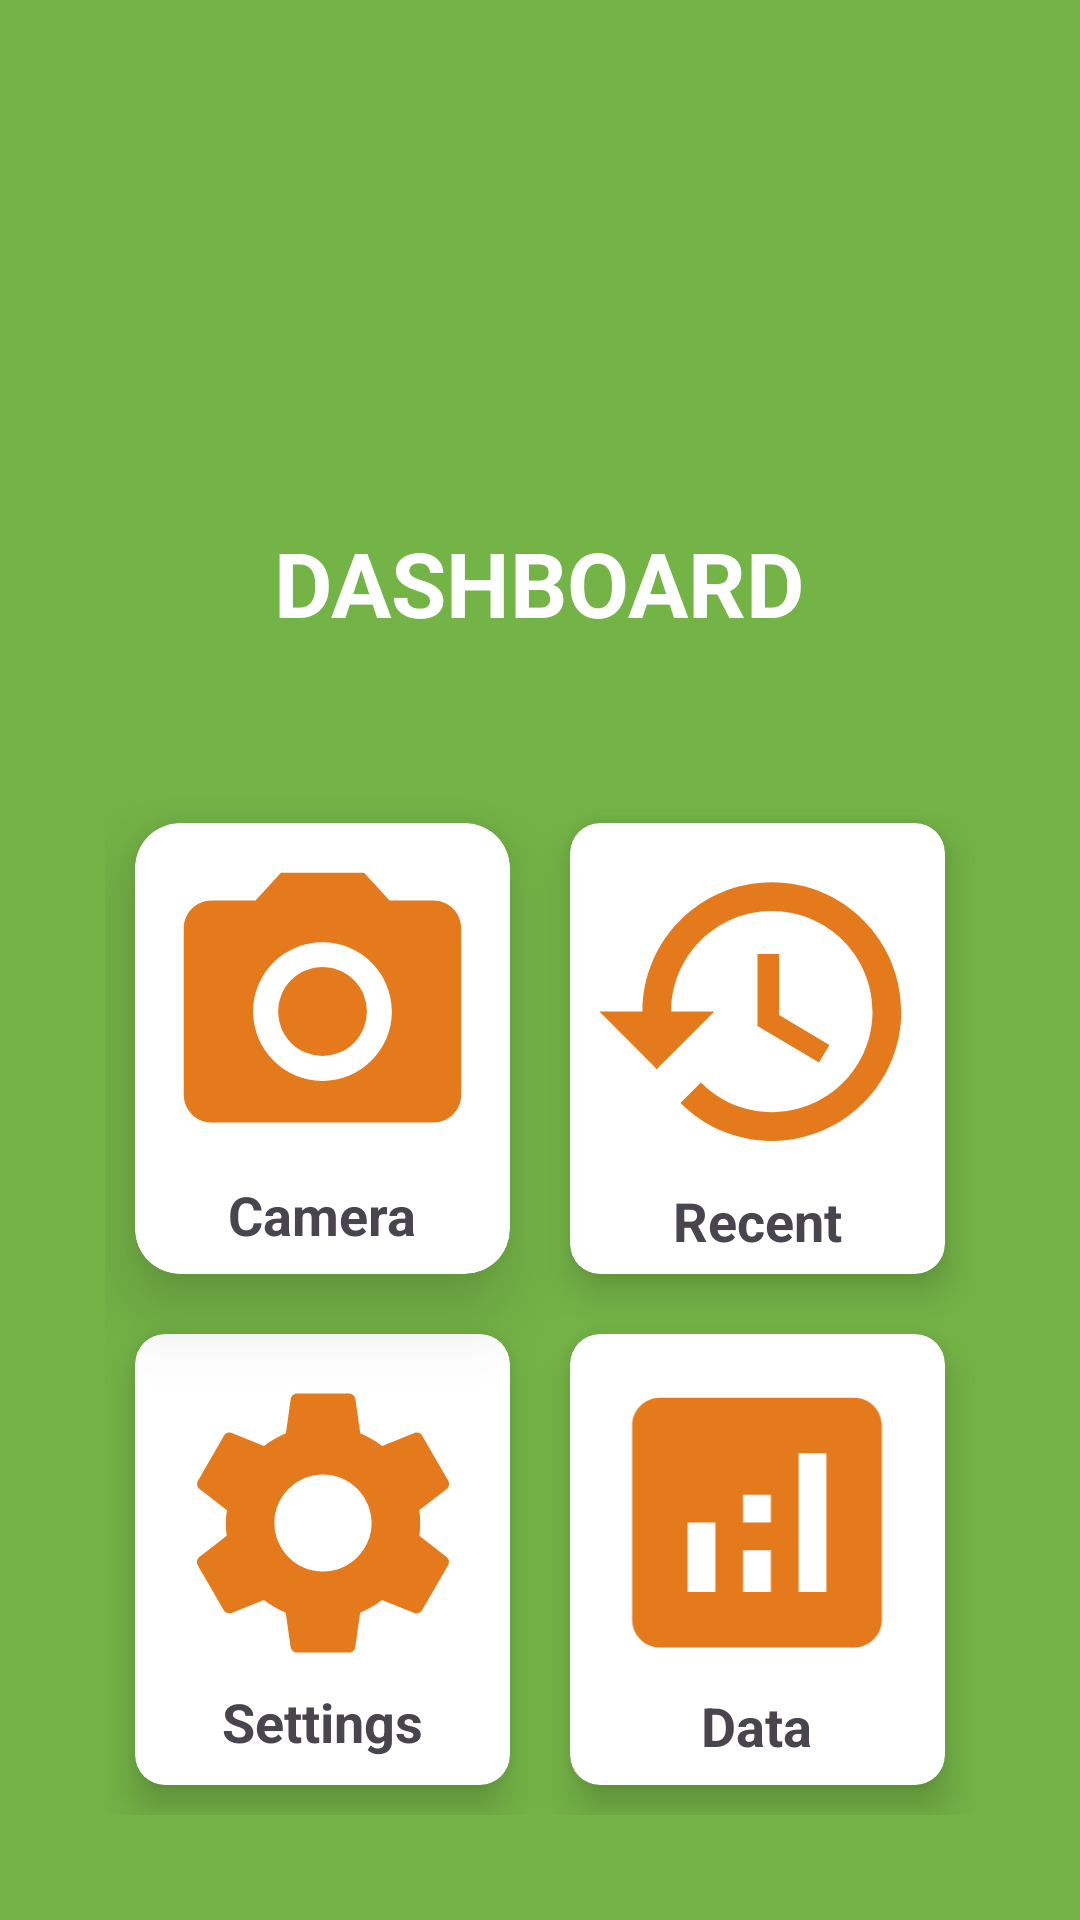

Locate icon controls on the screen. Image size 1080 × 1920, boxes as bbox(x1, y1, x2, y2).
analytics: bbox(631, 1397, 883, 1648)
history: bbox(599, 882, 902, 1141)
